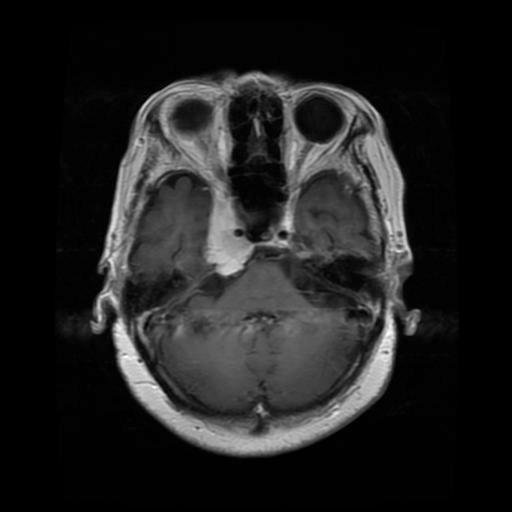Tumour-Meningioma: (173, 191, 263, 306)
